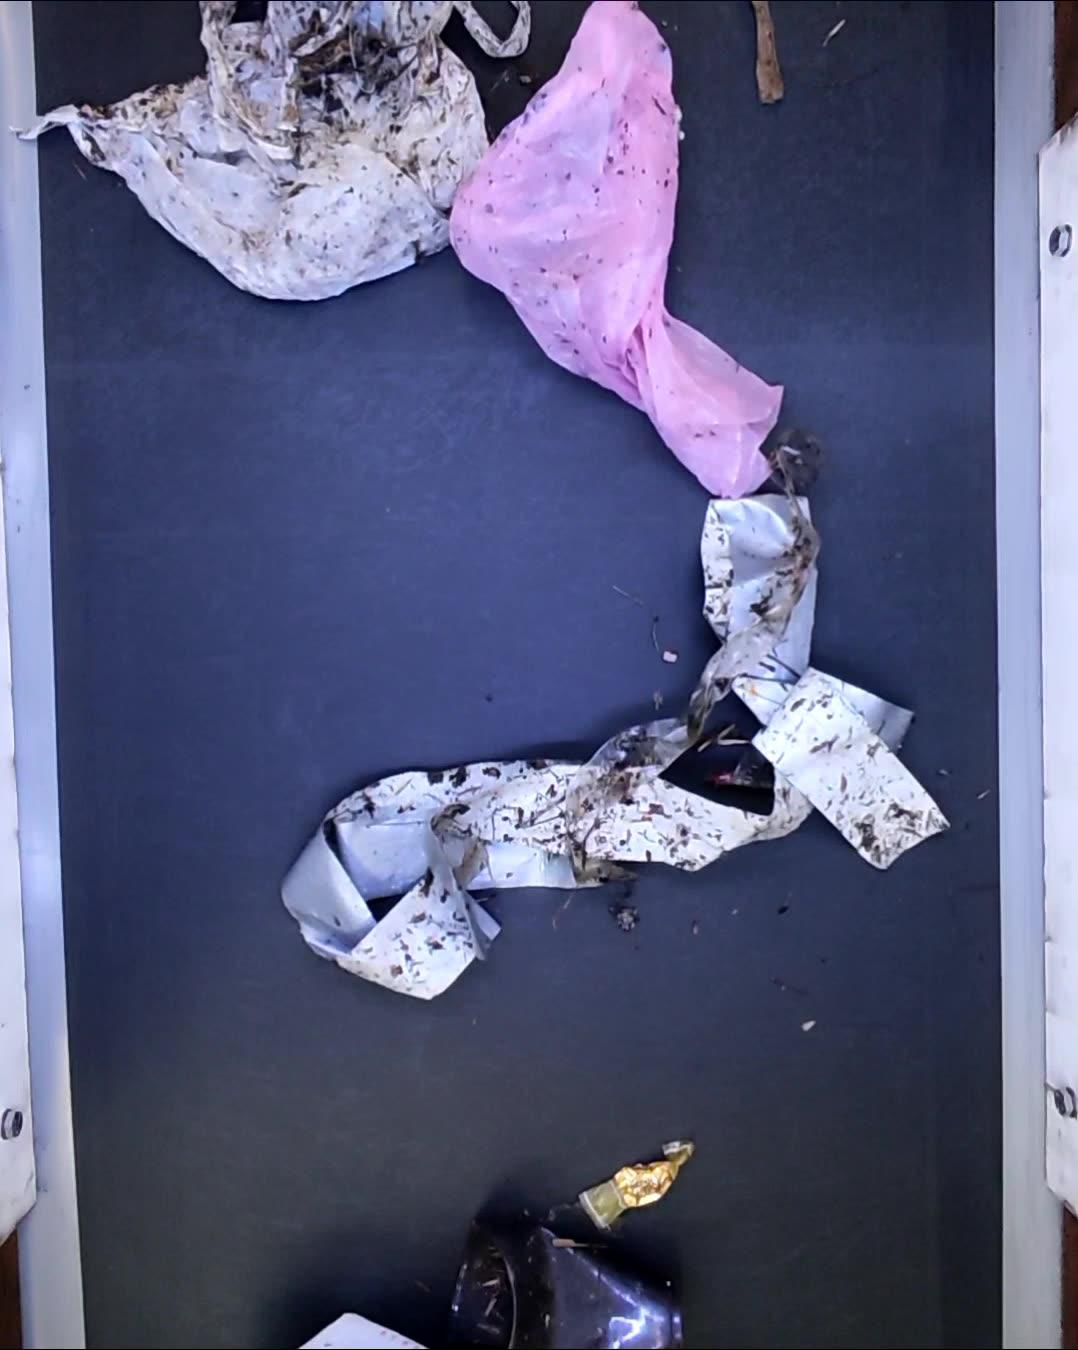Snoep snack en chips verpakkingen: (577, 1138, 697, 1230)
